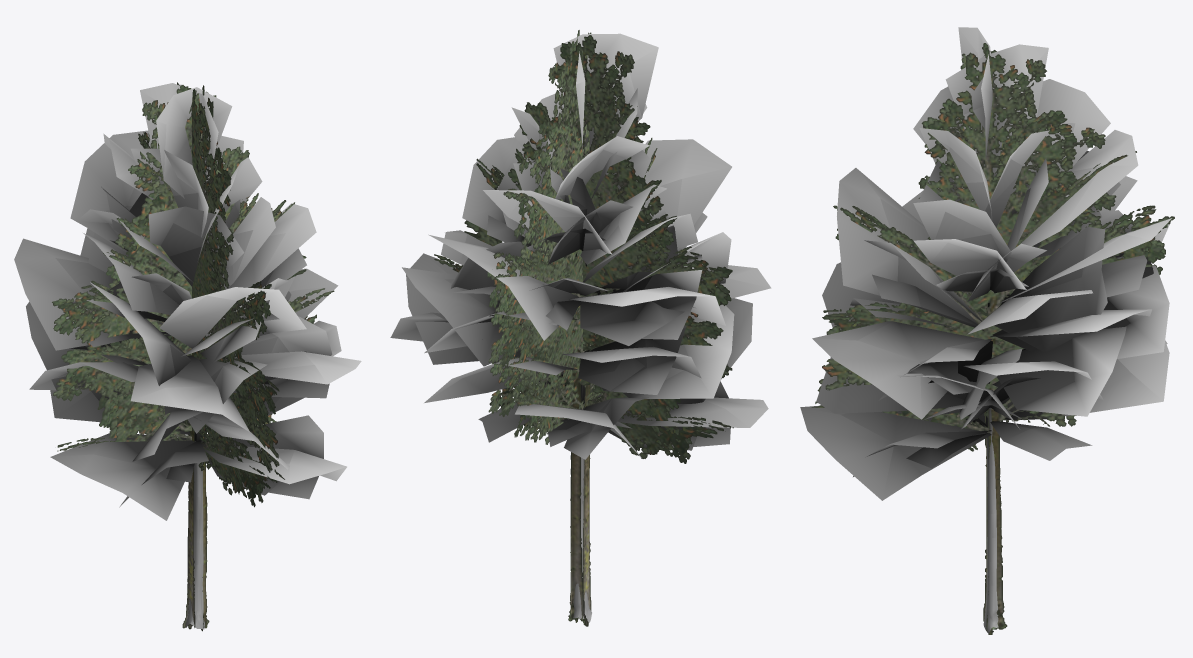
Rendered from Maple_02.fbx.
3 views of the same model, side by side, from view 1: azimuth 30°, elevation 25°; view 2: azimuth 150°, elevation 25°; view 3: azimuth 270°, elevation 25° (orthographic). The views are drawn at different scales.
Parts seen in each view (by area): view 1: Maple_02_LOD0, Billboard_Maple_02; view 2: Maple_02_LOD0, Billboard_Maple_02; view 3: Maple_02_LOD0, Billboard_Maple_02.
Boxes of the visible parts, left/top/right/bottom form: Maple_02_LOD0: left=14, top=83, right=361, bottom=629; Billboard_Maple_02: left=52, top=82, right=334, bottom=631; Maple_02_LOD0: left=390, top=33, right=771, bottom=622; Billboard_Maple_02: left=434, top=30, right=733, bottom=626; Maple_02_LOD0: left=800, top=27, right=1171, bottom=633; Billboard_Maple_02: left=811, top=43, right=1174, bottom=634.
Size of what is drawn, in the model's own units: 238 by 427 by 242.
